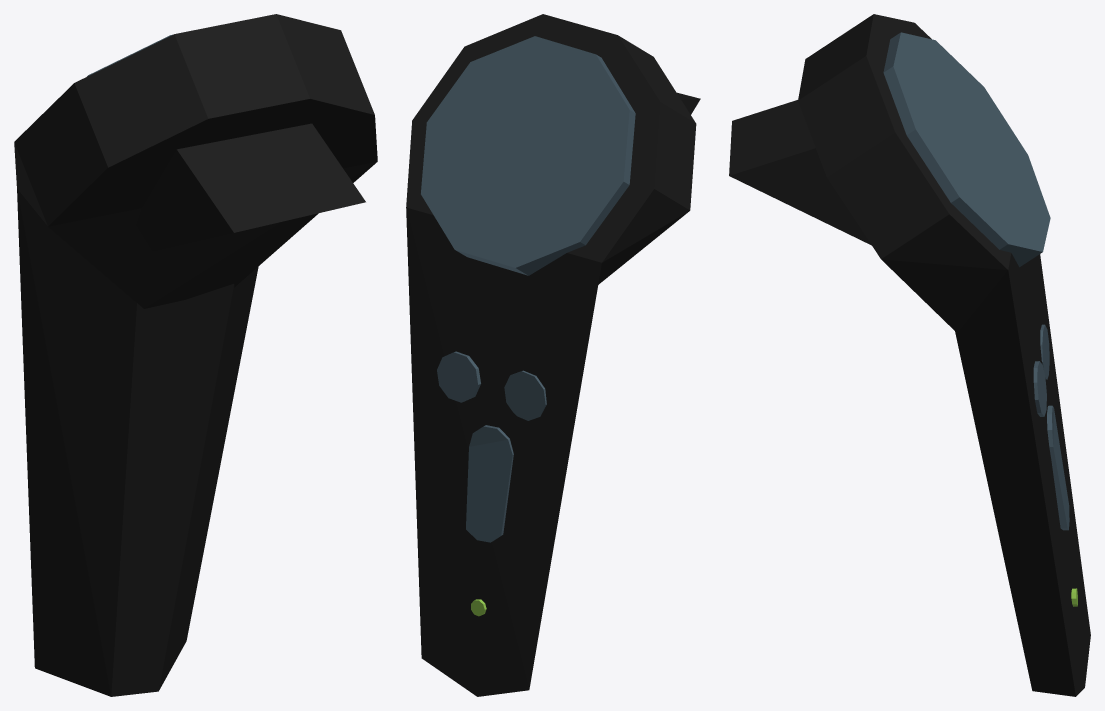
Rendered from gear-vr-controller-by-luis-gonz-lez-cUT5C1Krx7g.glb.
3 renders of one model, left to right at view 1: azimuth 30°, elevation 25°; view 2: azimuth 150°, elevation 25°; view 3: azimuth 270°, elevation 25°, orthographic. The views are drawn at different scales.
Parts seen in each view (by area): view 1: group31826373, group2123377016; view 2: group31826373, group72371224, group993748757, group853638757, group1668369009; view 3: group31826373, group72371224, group2123377016, group993748757, group853638757.
Part boxes in pixels (x1,y1,x2,y2): group31826373: (14, 14, 377, 696); group2123377016: (136, 123, 365, 251); group31826373: (406, 14, 696, 696); group72371224: (421, 36, 635, 275); group993748757: (466, 425, 513, 542); group853638757: (437, 351, 480, 402); group1668369009: (504, 370, 546, 420); group31826373: (798, 14, 1090, 696); group72371224: (883, 32, 1050, 267); group2123377016: (729, 100, 871, 245); group993748757: (1047, 405, 1069, 530); group853638757: (1033, 361, 1046, 416).
Size of the model in its own units: 0.1724 by 0.3844 by 0.1936.
